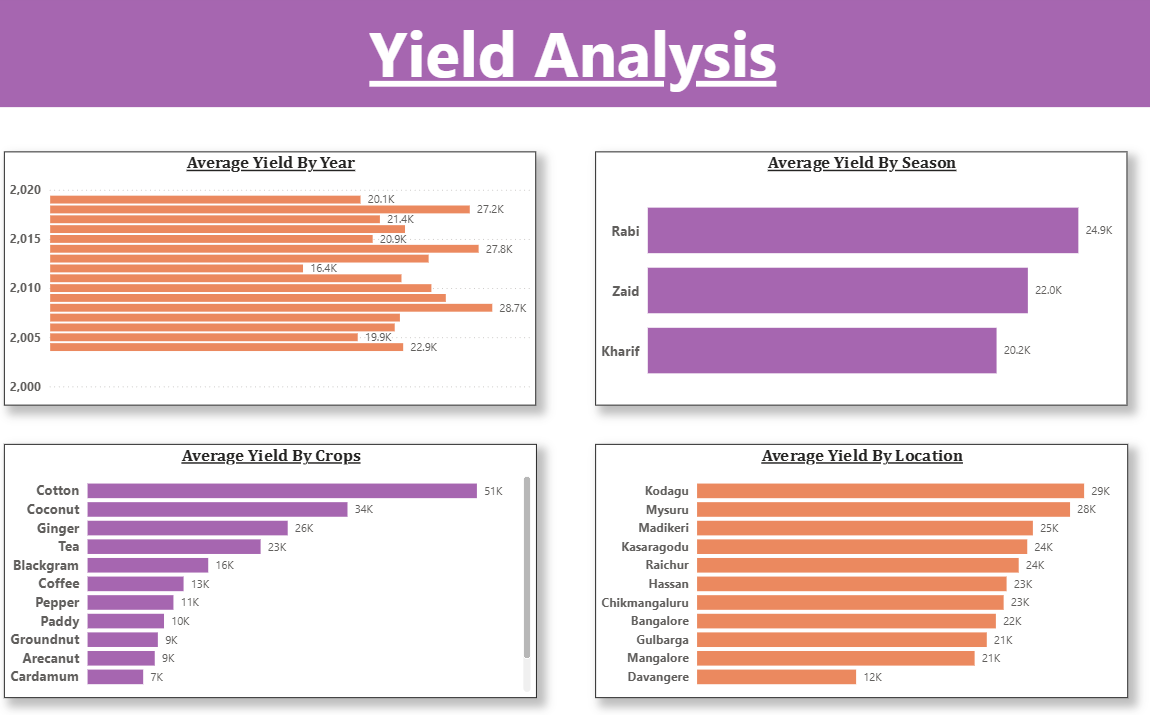

What the dashboard file says about the page in this screenshot:
{"tool":"powerbi","page":{"name":"Yield Analysis","canvas":[1280,793],"ordinal":3},"visuals":[{"type":"clusteredBarChart","title":"Average Yield By Year","fields":{"Category":["AGRICULTURE.YEAR"],"Y":["Avg(AGRICULTURE.YEILDS)"]},"box":[16.2,172.9,583.4,278.6],"z":0},{"type":"shape","box":[0,0,1280,124.4],"z":1000},{"type":"clusteredBarChart","title":"Average Yield By Season","fields":{"Category":["AGRICULTURE.SEASON"],"Y":["Avg(AGRICULTURE.YEILDS)"]},"box":[664.3,172.9,583.4,278.6],"z":2000},{"type":"clusteredBarChart","title":"Average Yield By Crops","fields":{"Category":["AGRICULTURE.CROPS"],"Y":["Avg(AGRICULTURE.YEILDS)"]},"box":[16.4,493.2,583.7,278.1],"z":3000},{"type":"clusteredBarChart","title":"Average Yield By Location","fields":{"Category":["AGRICULTURE.LOCATION"],"Y":["Avg(AGRICULTURE.YEILDS)"]},"box":[664.5,493.2,583.7,278.1],"z":4000}]}

Visuals, with their boxes in screenshot pixels (x1, y1, x2, y2), scaled from the page's 1280x793 canvas onto the 1150x715 screenshot:
"Average Yield By Year" clusteredBarChart: [15,156,539,407]
shape: [0,0,1149,112]
"Average Yield By Season" clusteredBarChart: [597,156,1121,407]
"Average Yield By Crops" clusteredBarChart: [15,445,539,695]
"Average Yield By Location" clusteredBarChart: [597,445,1121,695]
